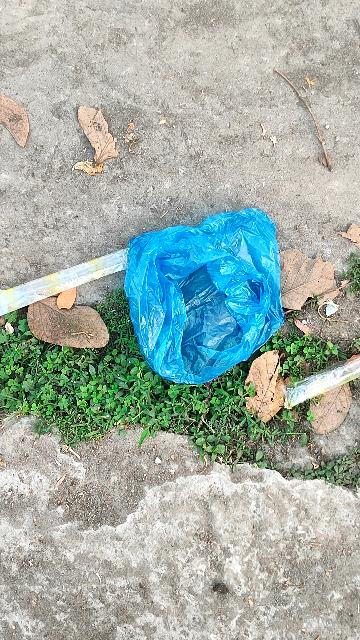polythene: (121, 210, 285, 383)
